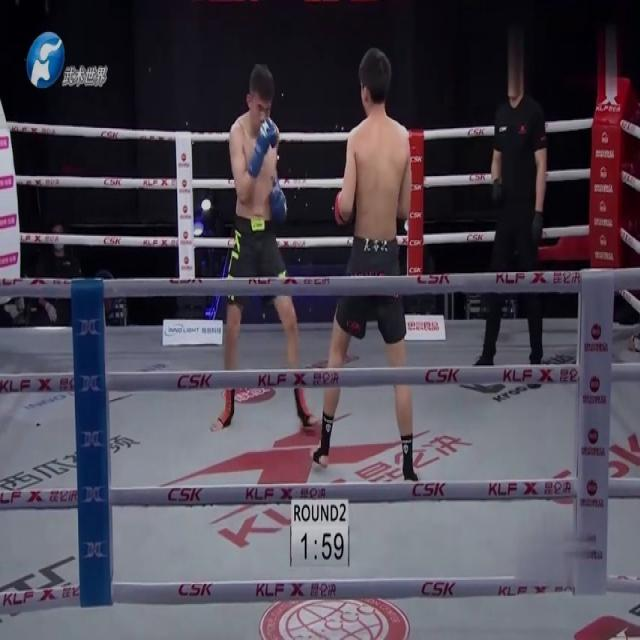fight: (309, 46, 418, 485), (213, 61, 321, 428)
non-fight: (476, 67, 544, 369)
